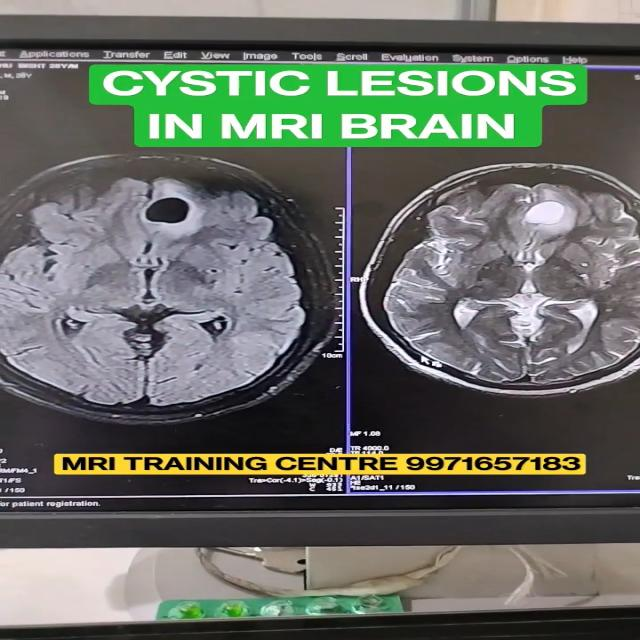tumor: (143, 165, 215, 252)
